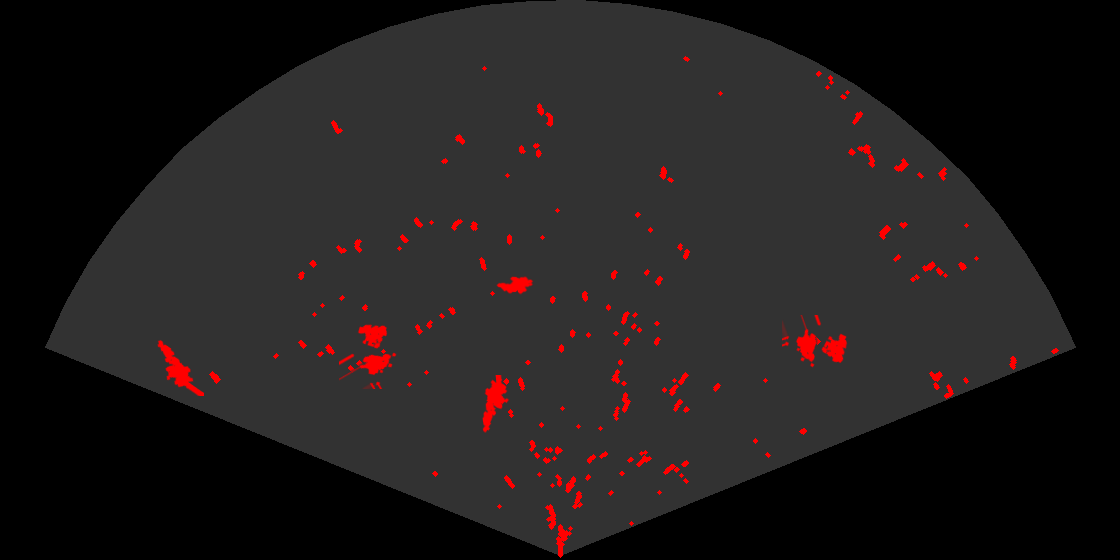AUV: (495, 275, 535, 295)
cage: (339, 323, 398, 389), (782, 315, 849, 369)
frogman: (156, 338, 204, 396), (481, 375, 511, 433)
